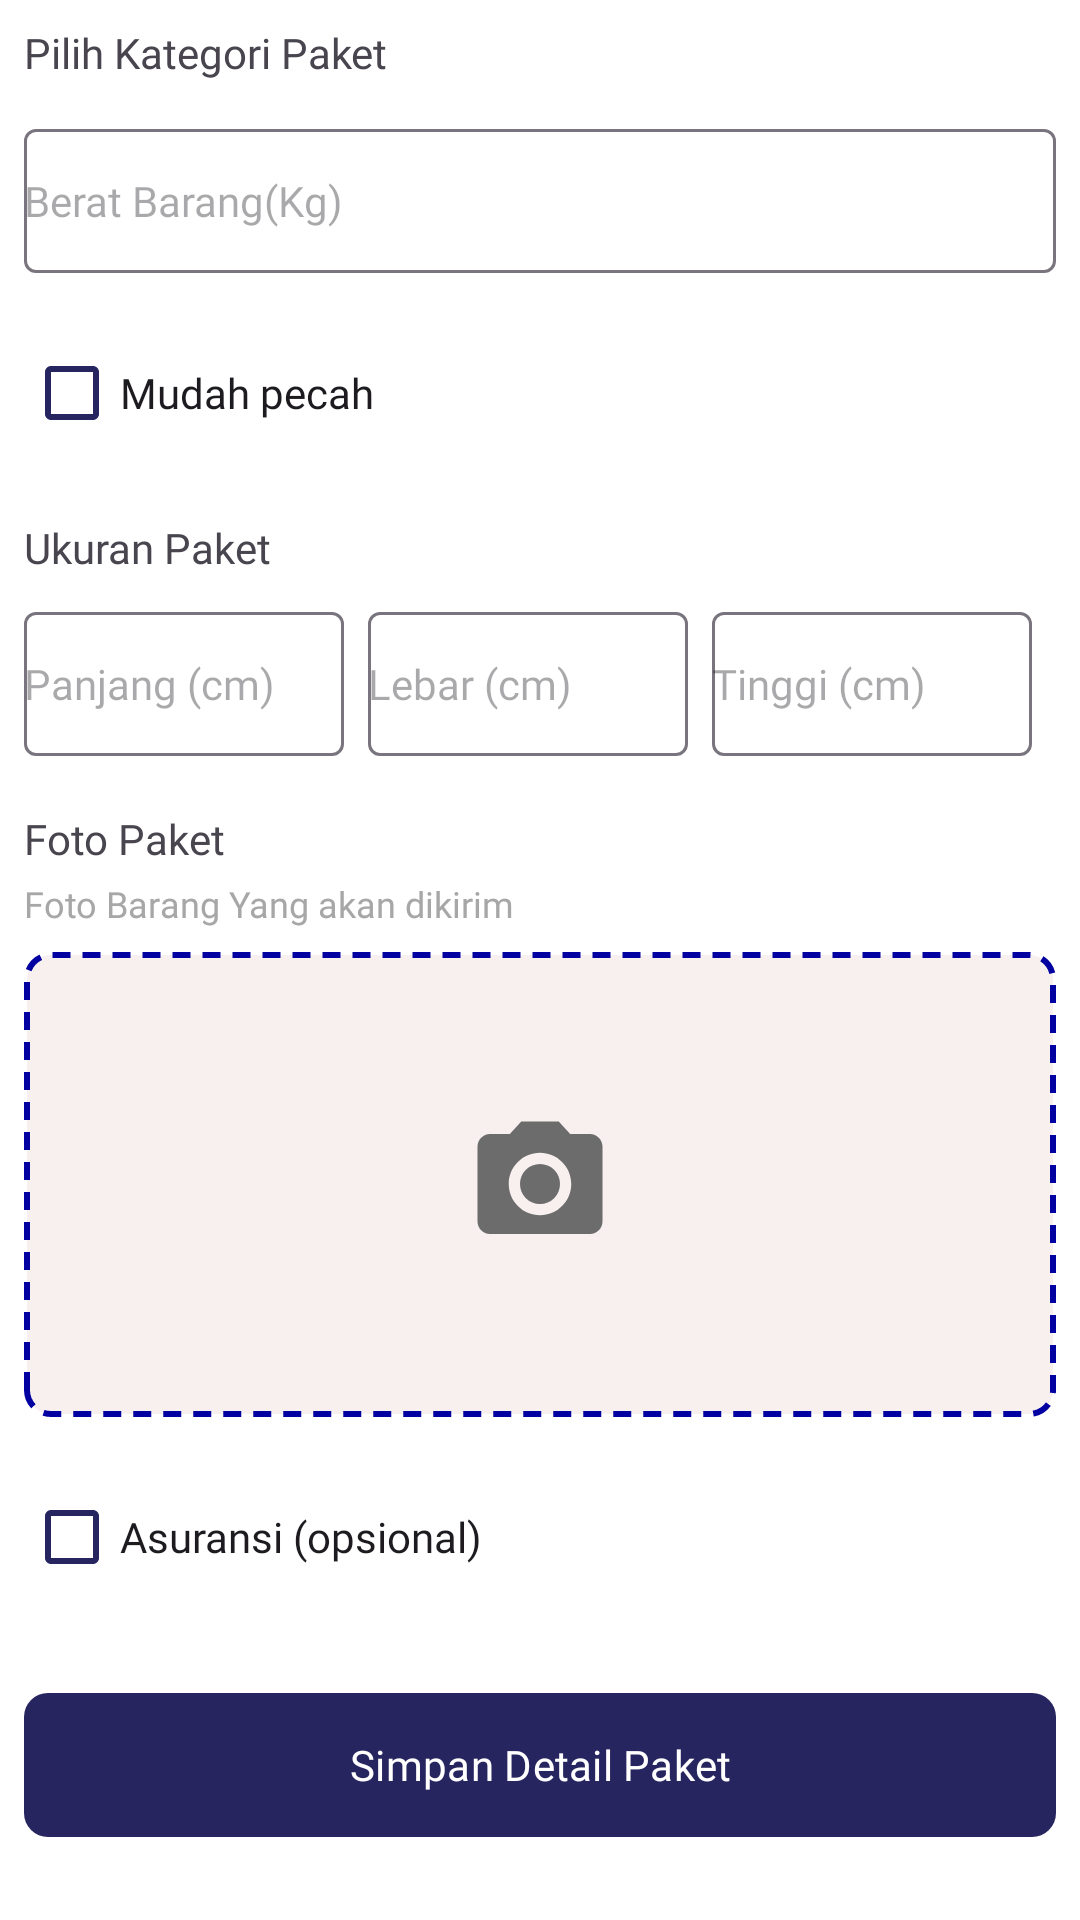

Icon bounding boxes for this 1080w x 1920h phone screenshot, format region(x1, y1, x2, y2):
camera: region(477, 1121, 603, 1234)
